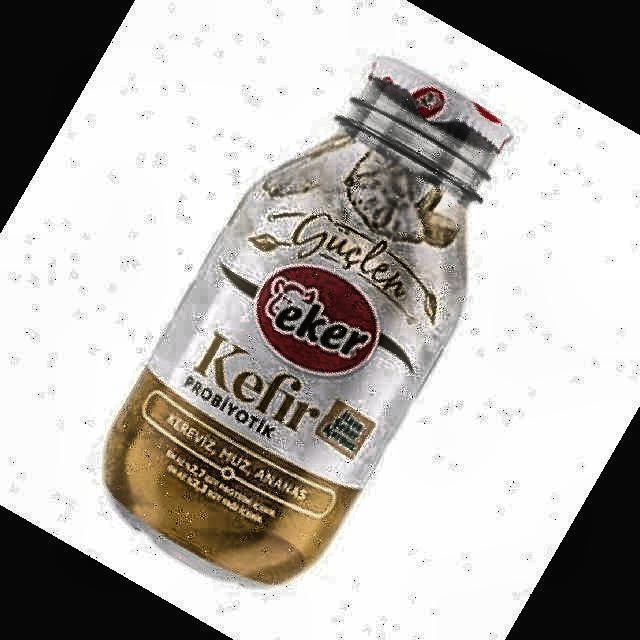plastic: (106, 59, 511, 583)
